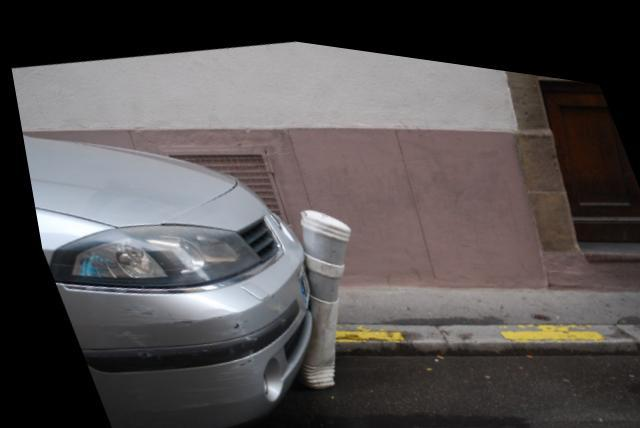scratch: (103, 300, 248, 401)
